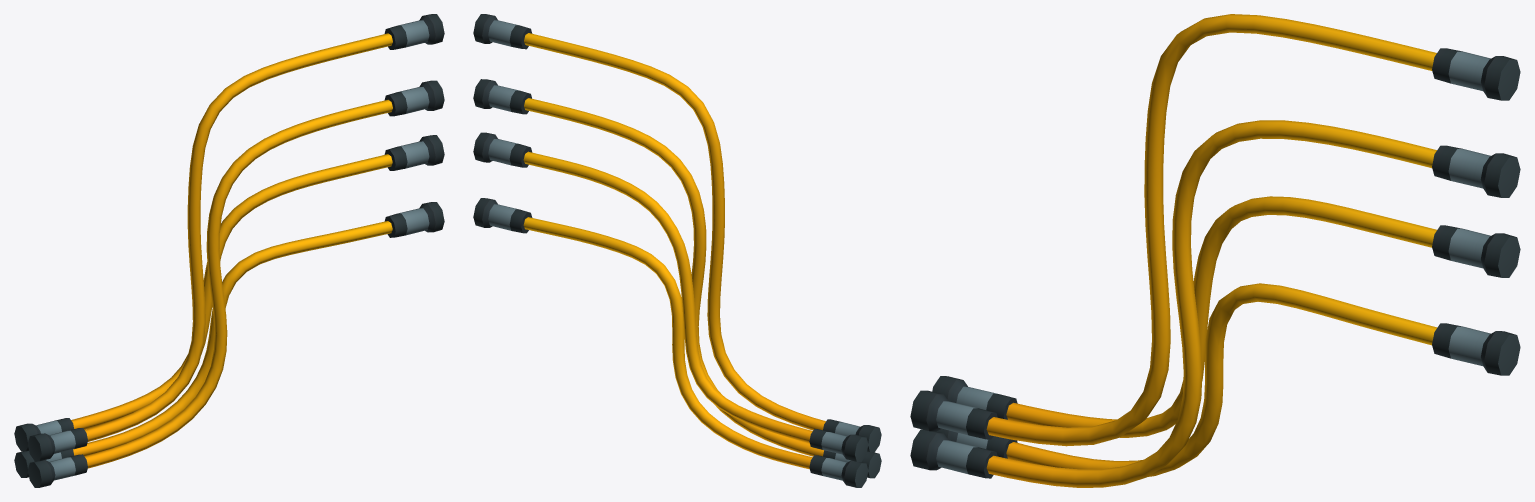
Rendered from Cable_type_C_005.fbx.
The picture shows the model from 3 angles, left to right: view 1: azimuth 30°, elevation 25°; view 2: azimuth 150°, elevation 25°; view 3: azimuth 330°, elevation 25°; orthographic projection. The views are drawn at different scales.
Parts seen in each view (by area): view 1: Cable_type_C_005; view 2: Cable_type_C_005; view 3: Cable_type_C_005.
Part boxes in pixels (<box>): Cable_type_C_005: <box>14,14,444,487</box>; Cable_type_C_005: <box>473,14,881,487</box>; Cable_type_C_005: <box>910,14,1520,487</box>.
Size of the model in its own units: 131 by 15.95 by 117.
